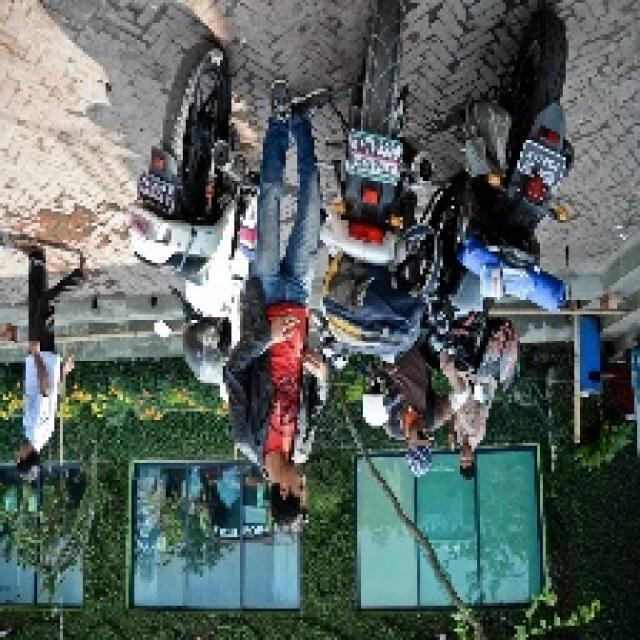bike: (424, 53, 582, 371), (130, 60, 260, 394), (306, 45, 419, 405)
